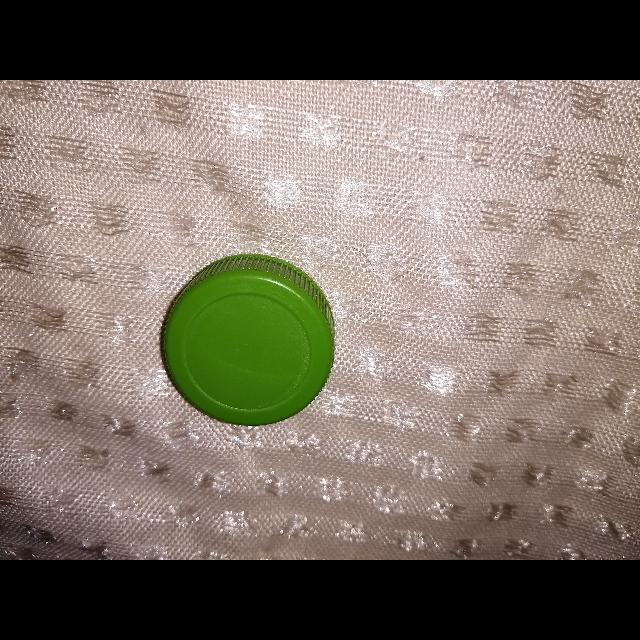plastic_bottle_cap: (164, 253, 336, 425)
